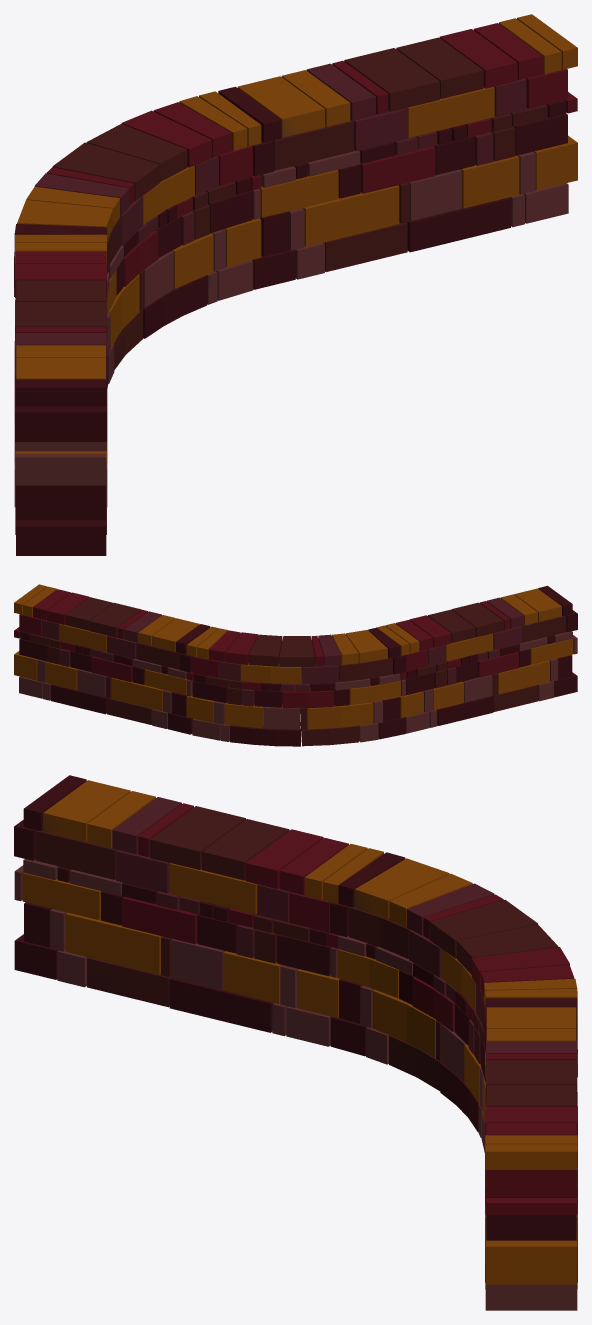
Rendered from WallRed3.fbx.
The picture shows the model from 3 angles, top to bottom: view 1: azimuth 30°, elevation 25°; view 2: azimuth 150°, elevation 25°; view 3: azimuth 270°, elevation 25°; orthographic projection. The views are drawn at different scales.
Parts seen in each view (by area): view 1: WallRed3; view 2: WallRed3; view 3: WallRed3.
Boxes of the visible parts, box(x1,y1,x2,y2) form: WallRed3: box(14, 14, 577, 555); WallRed3: box(14, 584, 577, 746); WallRed3: box(14, 775, 577, 1310).
Bounding box in the file's own units: 49.16 × 9.9 × 30.92.
1 material, 1 textured.
